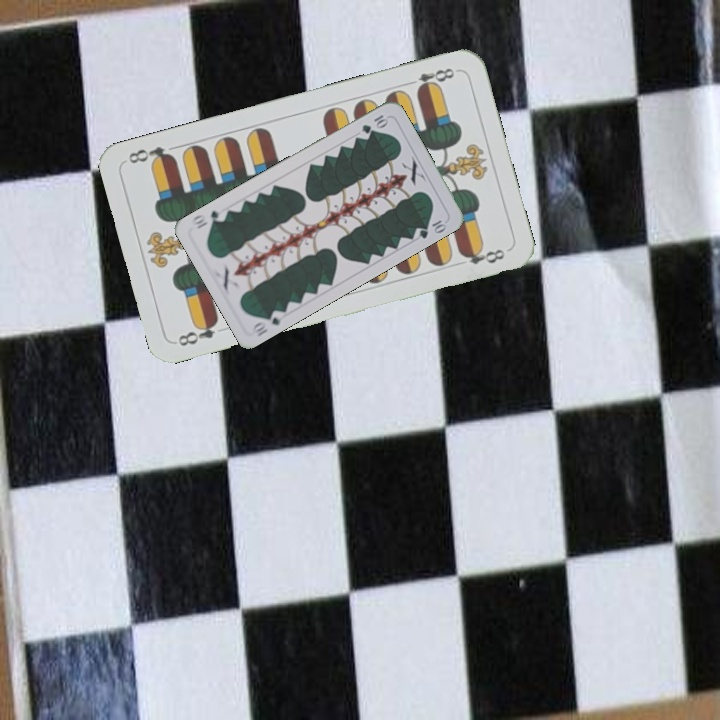E8: (402, 64, 457, 95), (174, 315, 221, 349)
G10: (249, 306, 287, 339), (358, 111, 391, 136)
